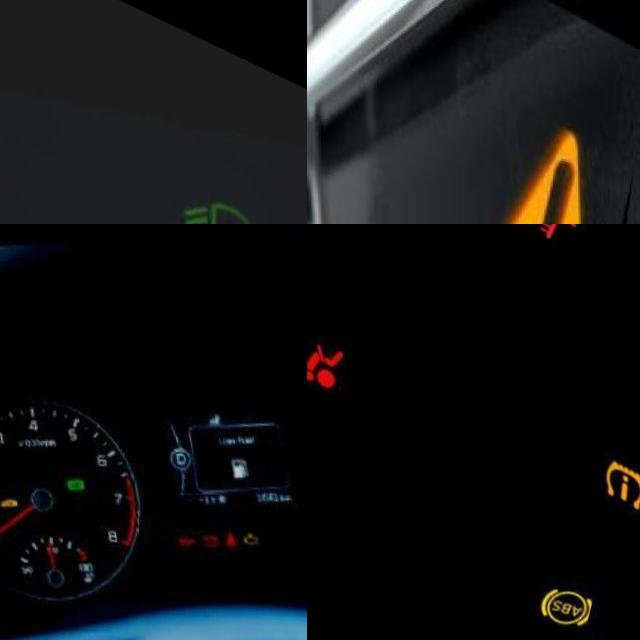Low fuel level: (232, 442, 252, 470)
